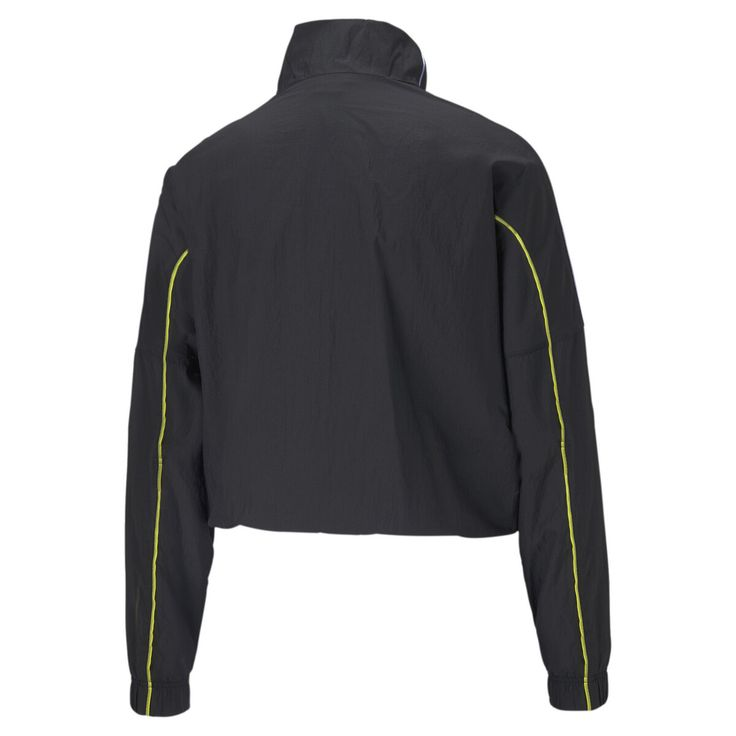nylon: (124, 19, 611, 716)
